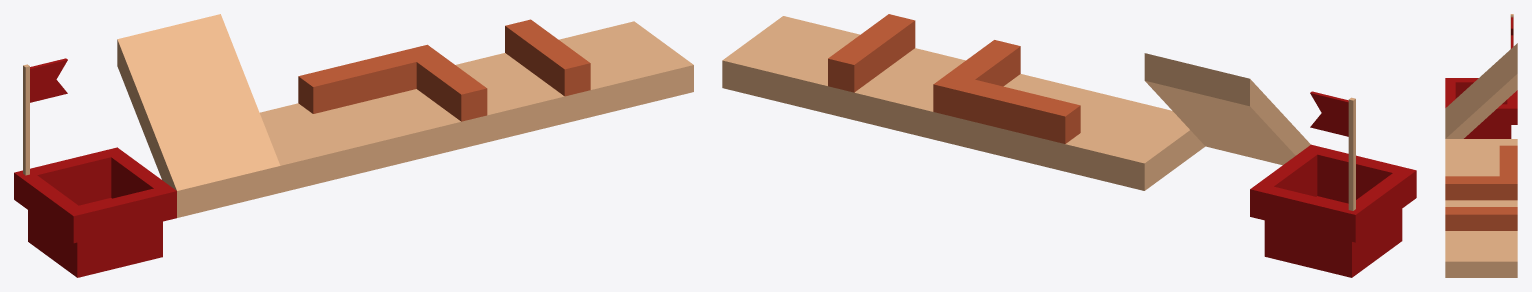
File: cobaYANG udah di Extr.glb
3 views of the same model, side by side, from view 1: azimuth 30°, elevation 25°; view 2: azimuth 150°, elevation 25°; view 3: azimuth 270°, elevation 25° (orthographic). The views are drawn at different scales.
Parts seen in each view (by area): view 1: floor-ramp, target, floor-corner-borders, floor-border, floor-corner, floor; view 2: target, floor-corner, floor-corner-borders, floor-border, floor-ramp, floor; view 3: floor, floor-ramp, floor-corner-borders, floor-border, floor-corner, target.
Part boxes in pixels (box(x1,y1,x2,y2)): floor-ramp: box(117, 14, 280, 217); target: box(14, 58, 176, 277); floor-corner-borders: box(324, 44, 487, 167); floor-border: box(456, 19, 590, 142); floor-corner: box(260, 70, 383, 192); floor: box(559, 21, 693, 116); target: box(1250, 91, 1416, 277); floor-corner: box(1039, 93, 1205, 190); floor-corner-borders: box(933, 40, 1099, 165); floor-border: box(828, 14, 965, 139); floor-ramp: box(1144, 53, 1310, 165); floor: box(722, 16, 859, 113); floor: box(1445, 231, 1517, 277); floor-ramp: box(1445, 43, 1517, 138); floor-corner-borders: box(1445, 153, 1517, 200); floor-border: box(1445, 200, 1517, 230); floor-corner: box(1445, 139, 1517, 169); target: box(1445, 14, 1517, 138).
Size of what is drawn, in the model's own units: 24 by 6.5 by 4.
1 material, 1 textured.
